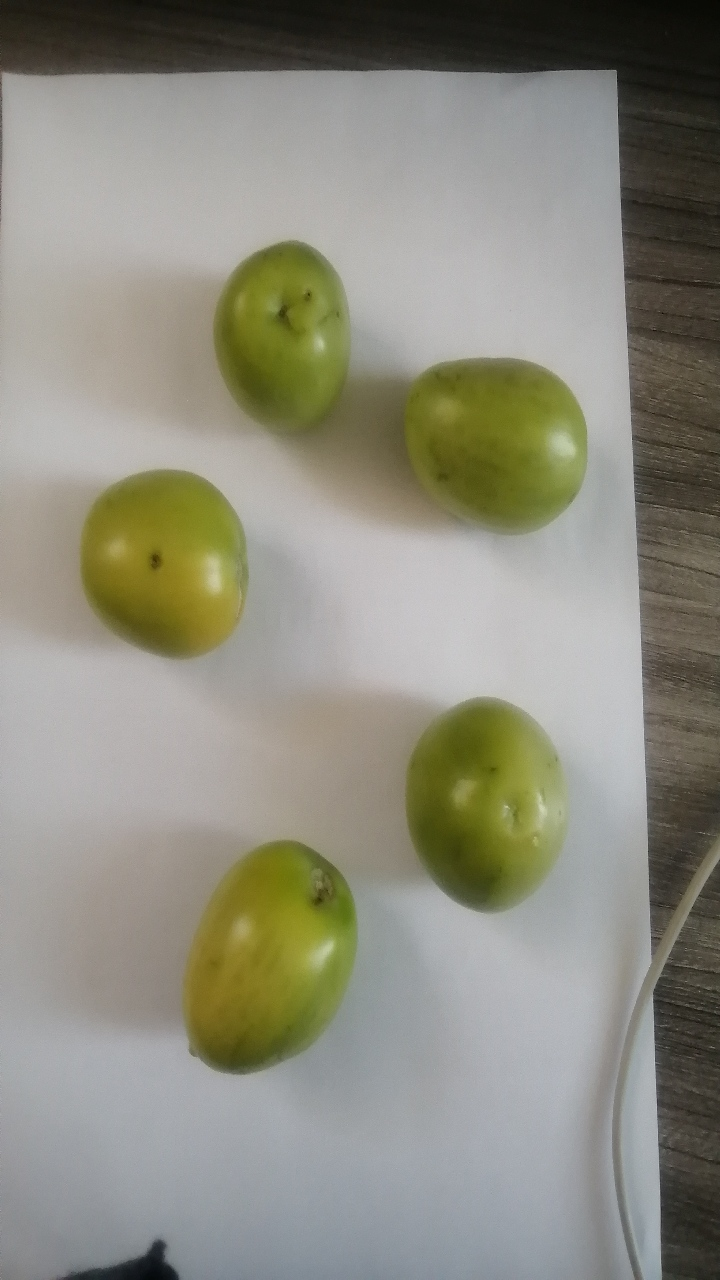tomateVerde: (389, 322, 614, 574), (169, 825, 369, 1106), (46, 446, 266, 689), (392, 679, 580, 942), (200, 215, 377, 455)
